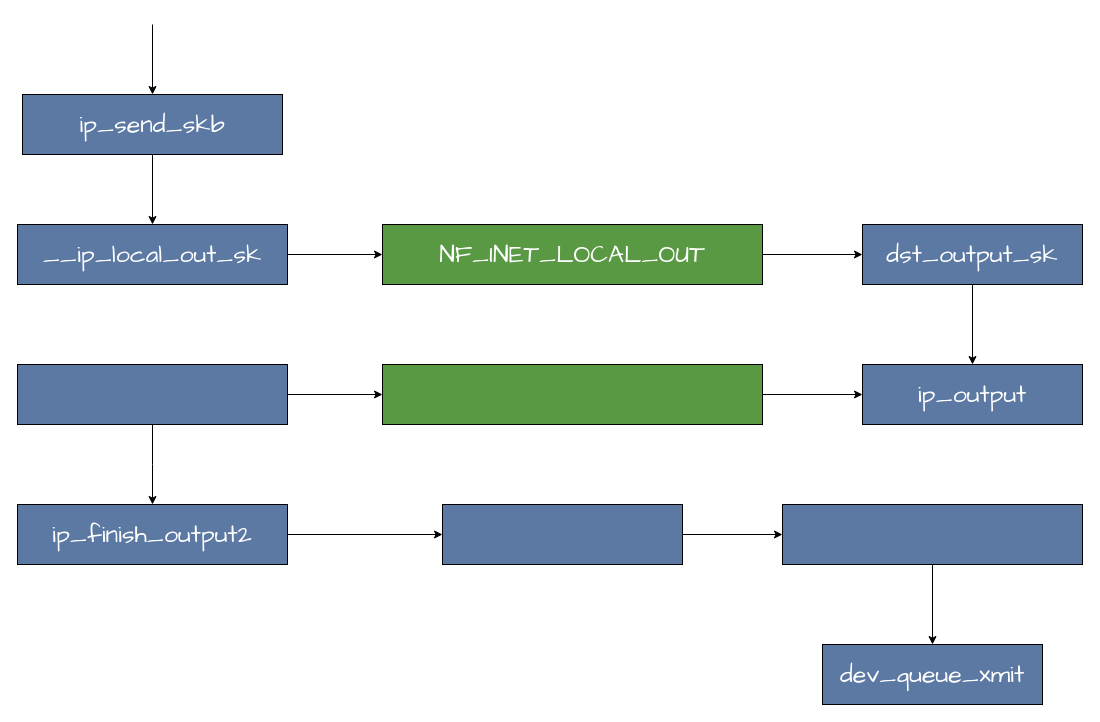
This 1100x722 diagram has some shape labels left out. The shapes that lost their labels are listed below. From the top down, each one's centre as x and y in pixels, then its label:
At (x=152, y=394): "ip_finish_output".
At (x=572, y=394): "NF_INET_POST_ROUTING".
At (x=562, y=534): "dst_neigh_output".
At (x=932, y=534): "neigh_resolve_output".
